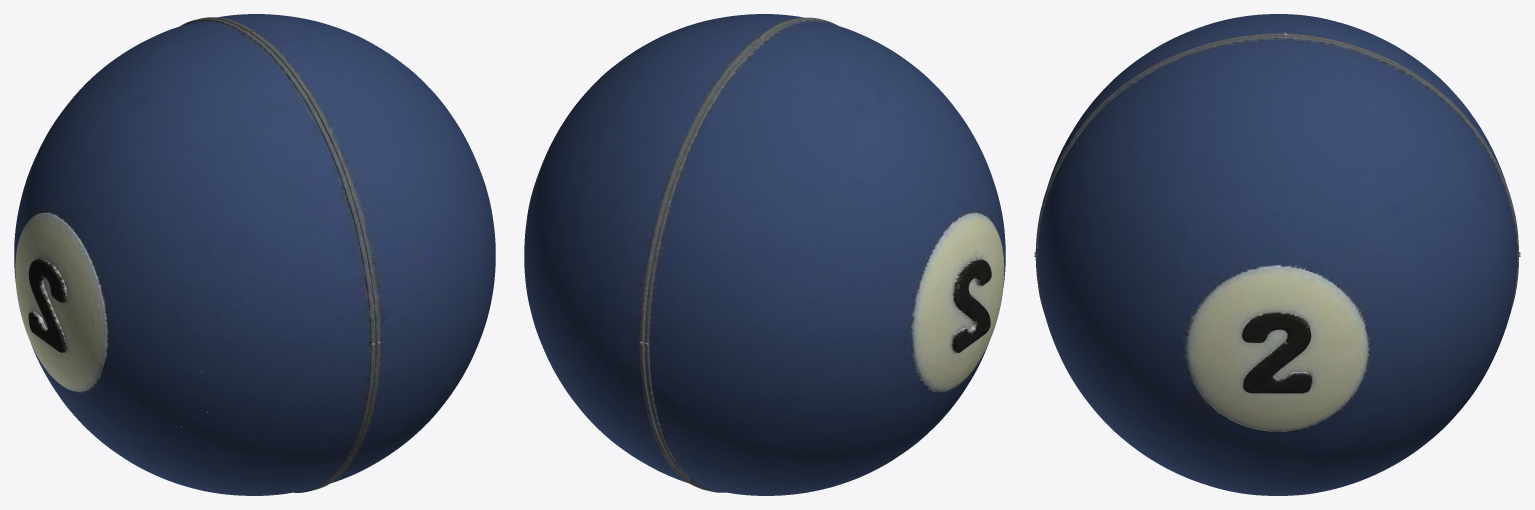
File: biabb.glb
3 renders of one model, left to right at view 1: azimuth 30°, elevation 25°; view 2: azimuth 150°, elevation 25°; view 3: azimuth 270°, elevation 25°, orthographic.
Visible parts, largest first — view 1: tripo_node_5d9951ec-b118-45ee-9355-2a415fcb76c2; view 2: tripo_node_5d9951ec-b118-45ee-9355-2a415fcb76c2; view 3: tripo_node_5d9951ec-b118-45ee-9355-2a415fcb76c2.
Part boxes in pixels (box(x1,y1,x2,y2)): tripo_node_5d9951ec-b118-45ee-9355-2a415fcb76c2: box(14, 14, 495, 495); tripo_node_5d9951ec-b118-45ee-9355-2a415fcb76c2: box(524, 14, 1005, 495); tripo_node_5d9951ec-b118-45ee-9355-2a415fcb76c2: box(1034, 14, 1520, 495).
Bounding box in the file's own units: 0.979 × 0.9818 × 0.9811.
1 material, 1 textured.
